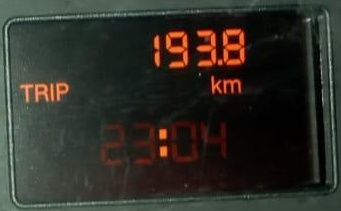-: (216, 58, 223, 65)
0: (169, 120, 199, 163)
1: (151, 33, 161, 68)
2: (99, 123, 125, 167)
3: (130, 121, 156, 165), (193, 28, 216, 67)
4: (199, 120, 227, 158)
8: (221, 27, 246, 66)
9: (163, 29, 189, 69)
X: (157, 126, 169, 156), (222, 77, 242, 94), (33, 82, 49, 103), (17, 82, 32, 102), (54, 81, 68, 101), (209, 73, 222, 93), (48, 81, 54, 102)
